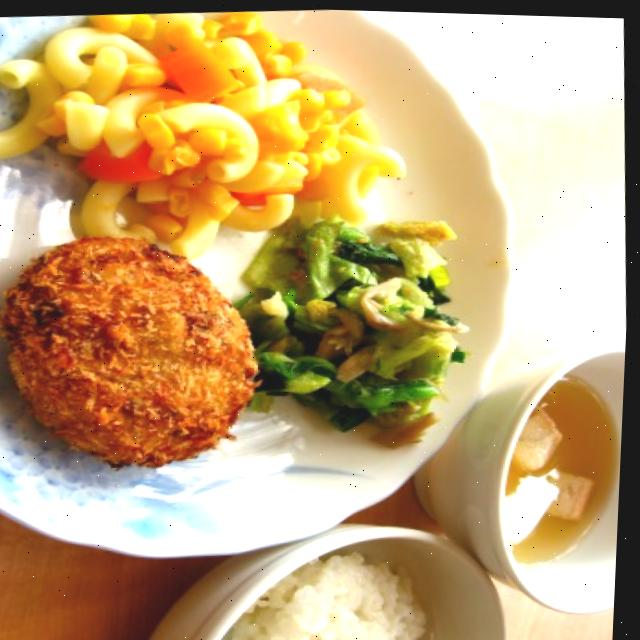蔬菜料理: (0, 13, 409, 274)
